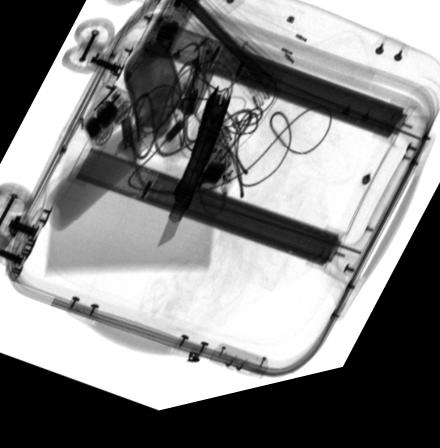Knife: (156, 97, 231, 255)
